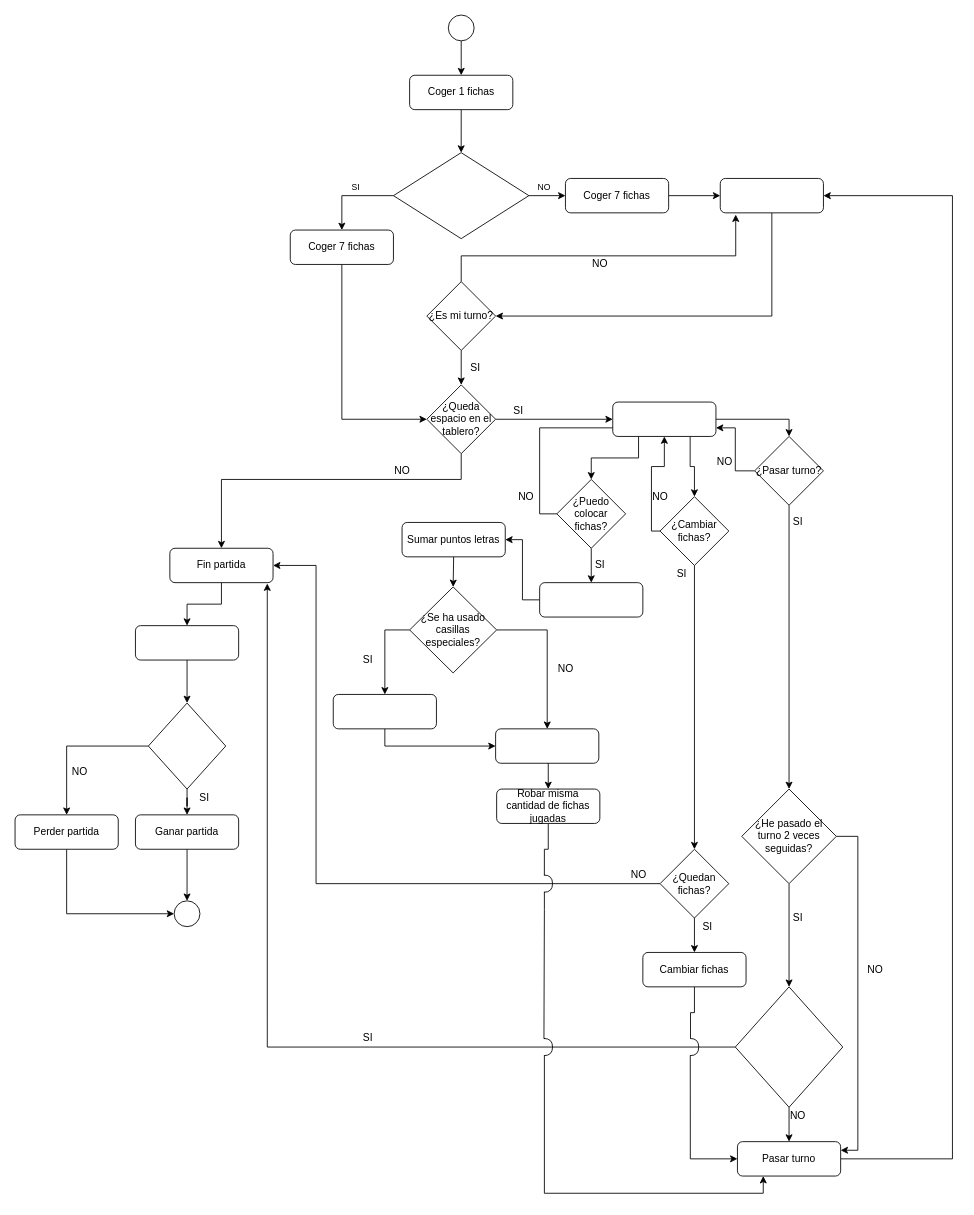
Some shapes in this 974 by 1215 pixel diagram are drawn without their labels. Each missing label, with the box of its shape:
Aplicar bonus casillas: (332, 694, 436, 729)
Añadir puntos a puntuación de jugador: (495, 728, 599, 763)
Colocar fichas: (539, 582, 643, 617)
Contar puntos: (135, 625, 239, 660)
Decidir jugada: (612, 401, 716, 436)
Esperar turno: (719, 178, 823, 213)
¿El rival acaba de pasar el turno 2 veces seguidas?: (734, 986, 843, 1107)
¿Mi ficha esta más cerca de la letra "A" que la ficha del oponente?: (393, 152, 529, 239)
¿Tengo mas puntos que el rival?: (147, 702, 226, 789)
